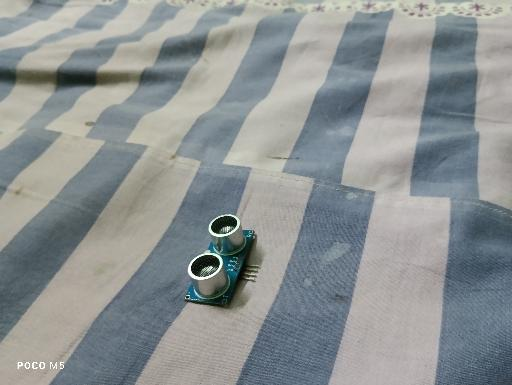sensor: (184, 214, 260, 308)
